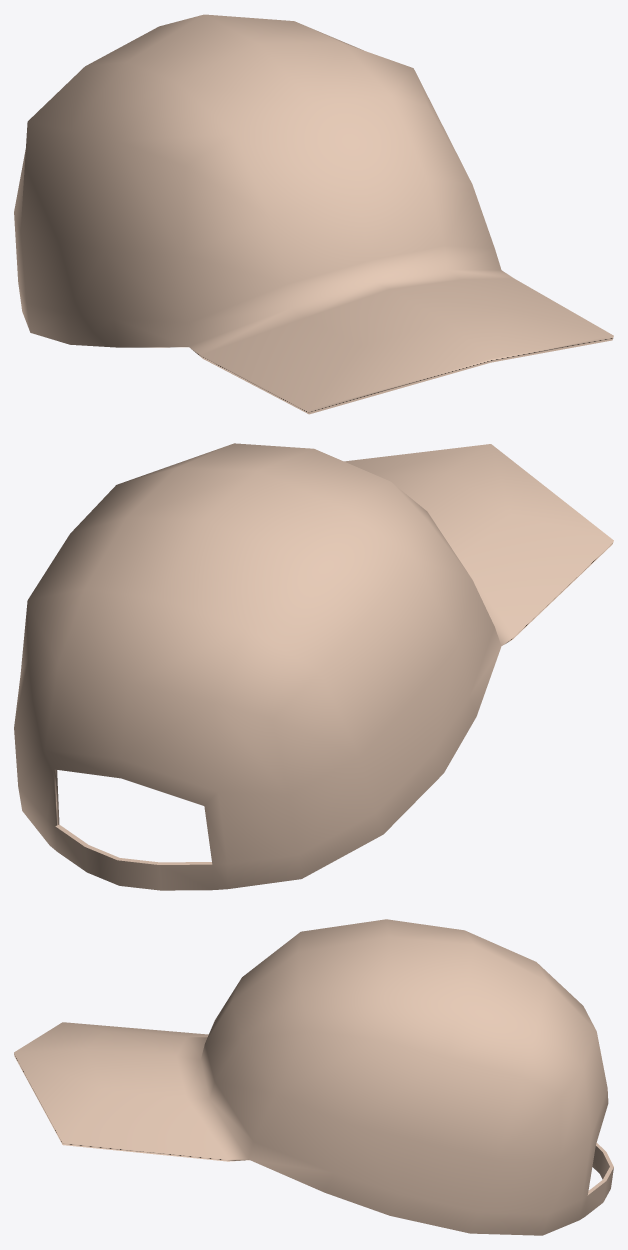
The model's file is cap.fbx.
3 views of the same model, one above another, from view 1: azimuth 30°, elevation 25°; view 2: azimuth 150°, elevation 25°; view 3: azimuth 270°, elevation 25° (orthographic). The views are drawn at different scales.
Parts seen in each view (by area): view 1: BaseballCap:baseball_cap_seam_at_inner_edge; view 2: BaseballCap:baseball_cap_seam_at_inner_edge; view 3: BaseballCap:baseball_cap_seam_at_inner_edge.
Boxes of the visible parts, <box> form: BaseballCap:baseball_cap_seam_at_inner_edge: <box>14,14,613,414</box>; BaseballCap:baseball_cap_seam_at_inner_edge: <box>14,443,613,890</box>; BaseballCap:baseball_cap_seam_at_inner_edge: <box>14,919,613,1235</box>.
Bounding box in the file's own units: 16.82 × 13.47 × 29.11.
